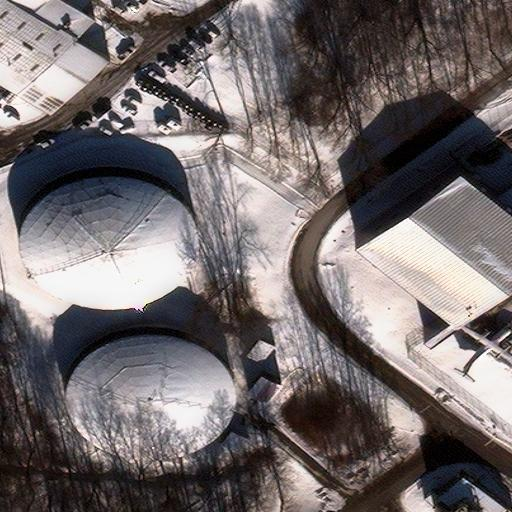Medium Civil Transport: (459, 322, 511, 377)
